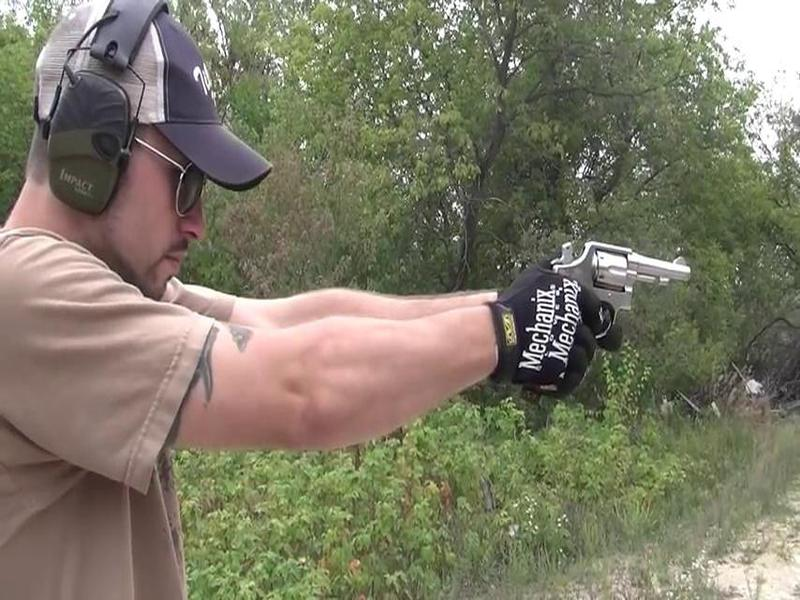Revolver: (549, 231, 697, 331)
